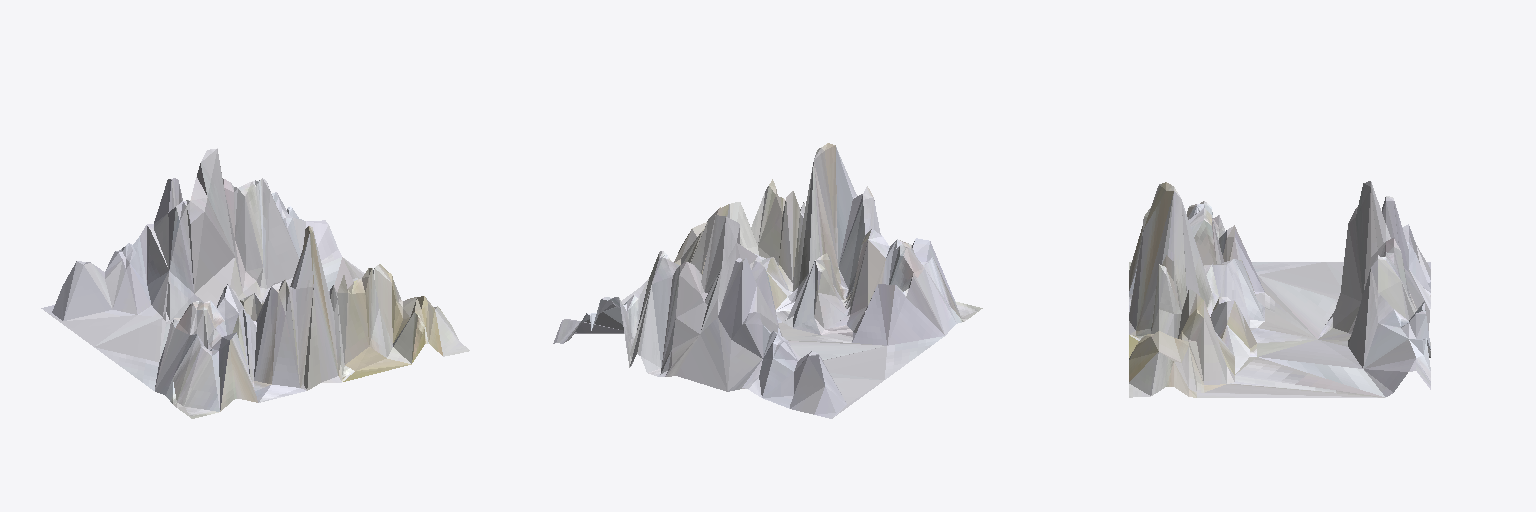
3 renders of one model, left to right at view 1: azimuth 30°, elevation 25°; view 2: azimuth 150°, elevation 25°; view 3: azimuth 270°, elevation 25°, orthographic.
Visible parts, largest first — view 1: Plane01; view 2: Plane01; view 3: Plane01.
Boxes of the visible parts, x1,y1,x2,y2 form: Plane01: [41, 148, 469, 418]; Plane01: [553, 143, 982, 418]; Plane01: [1129, 181, 1430, 397].
Bounding box in the file's own units: 257 × 130 × 242.
1 materials, 1 textured.